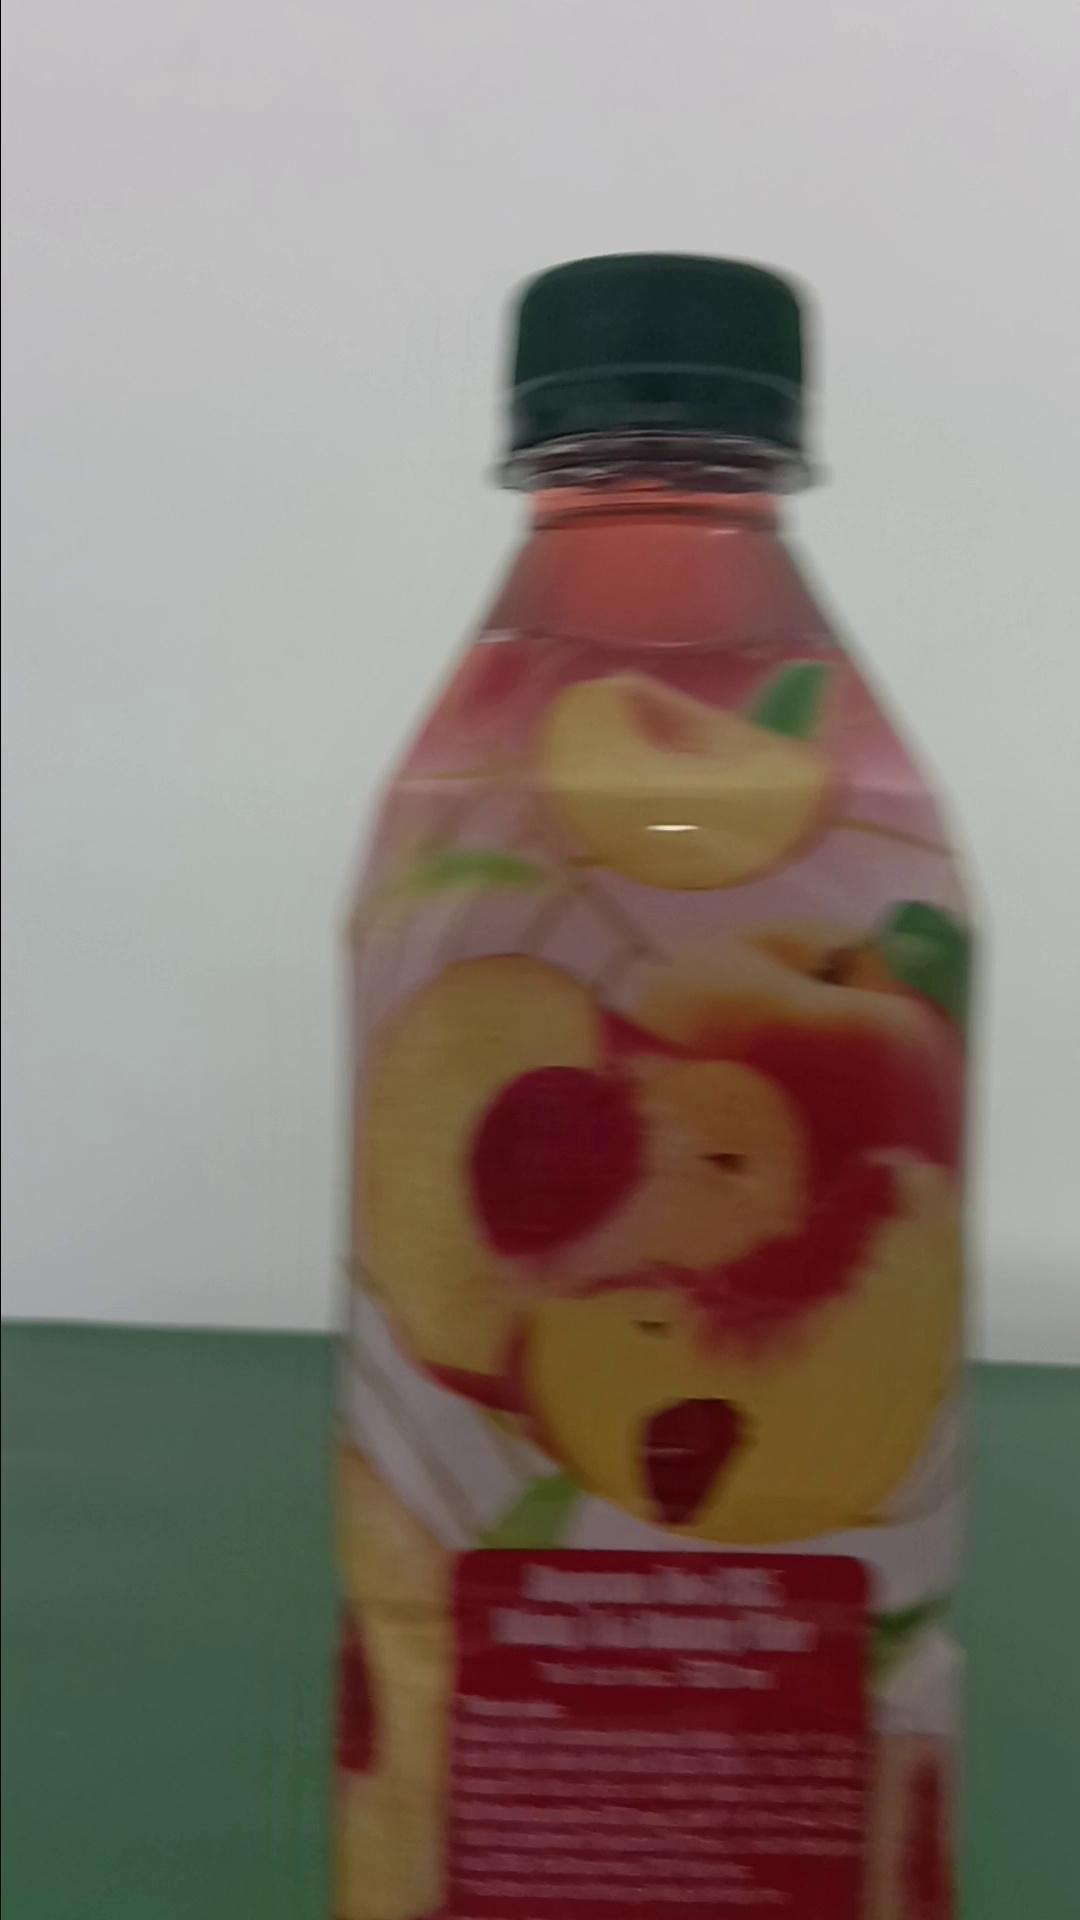loi rach va lap chai: (328, 243, 978, 1904)
